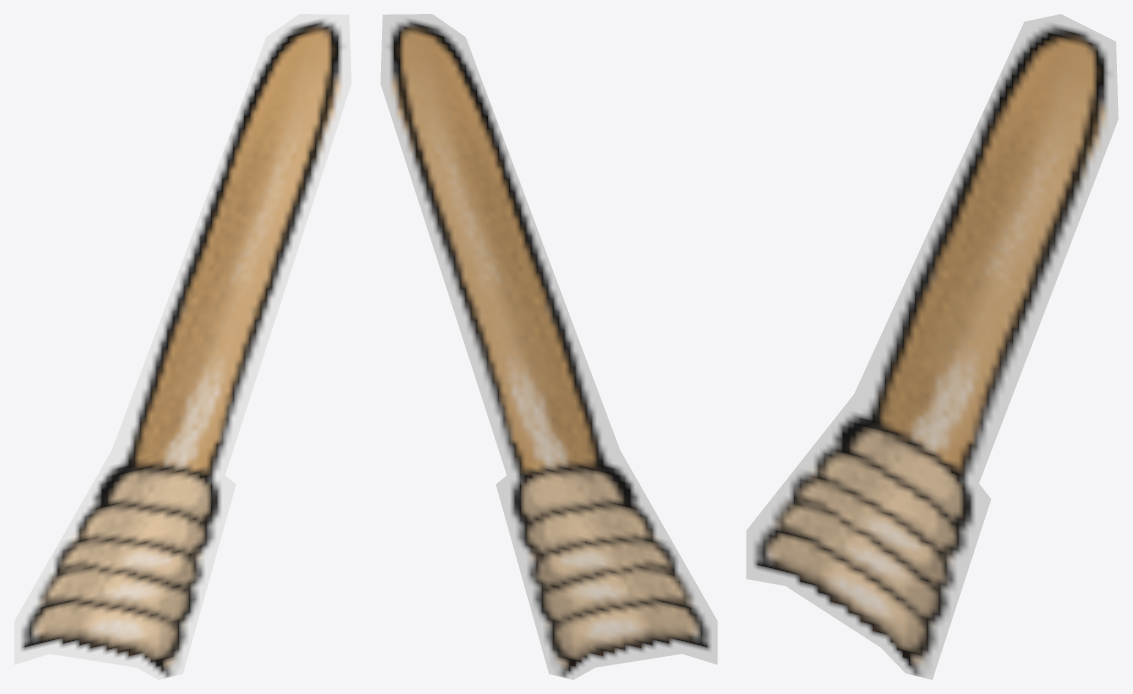
The picture shows the model from 3 angles, left to right: view 1: azimuth 30°, elevation 25°; view 2: azimuth 150°, elevation 25°; view 3: azimuth 330°, elevation 25°; orthographic projection. The views are drawn at different scales.
Visible parts, largest first — view 1: Plane; view 2: Plane; view 3: Plane.
Part boxes in pixels (x1,y1,x2,y2): Plane: (14, 14, 351, 679); Plane: (380, 14, 717, 679); Plane: (746, 14, 1118, 679).
Size of the model in its own units: 1.23 by 2.2 by 0.
Materials: 1 (1 with a texture image).
